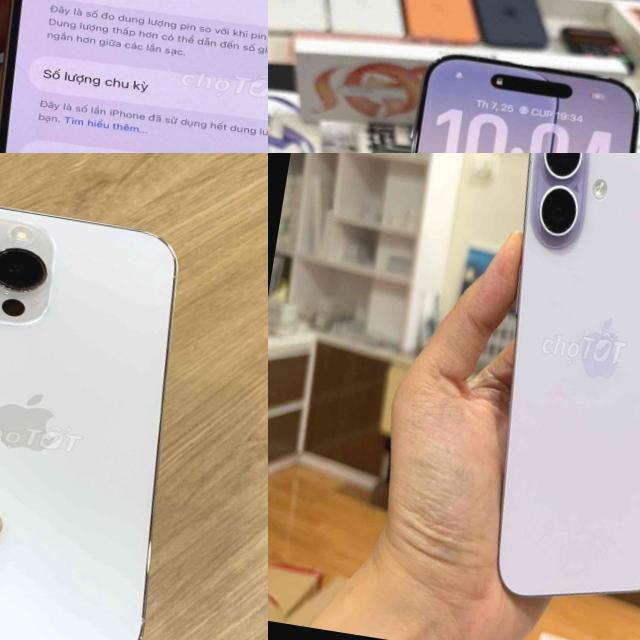gen_14: (0, 184, 212, 640)
gen_17: (459, 153, 640, 618), (0, 0, 268, 153), (356, 38, 640, 153)
